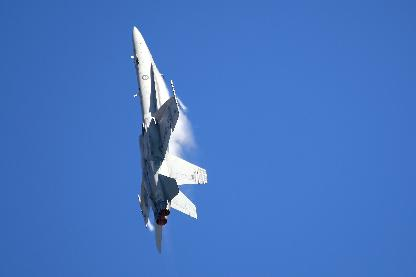F15: (131, 25, 207, 252)
